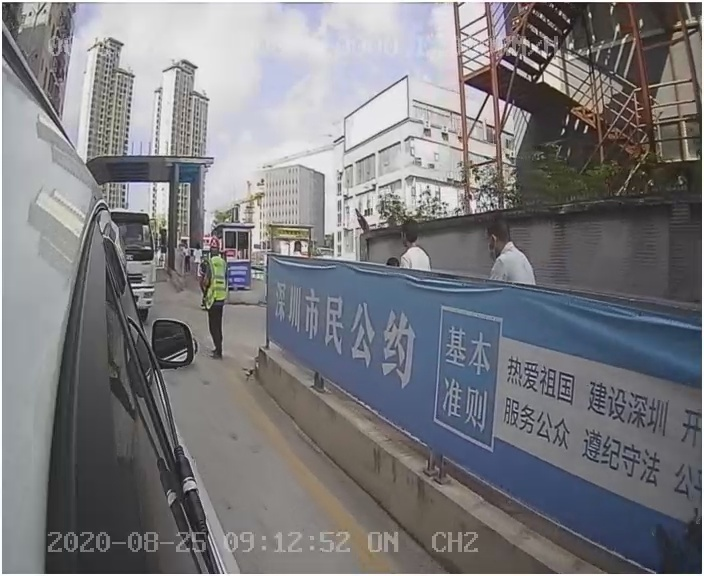person: (196, 236, 240, 359)
